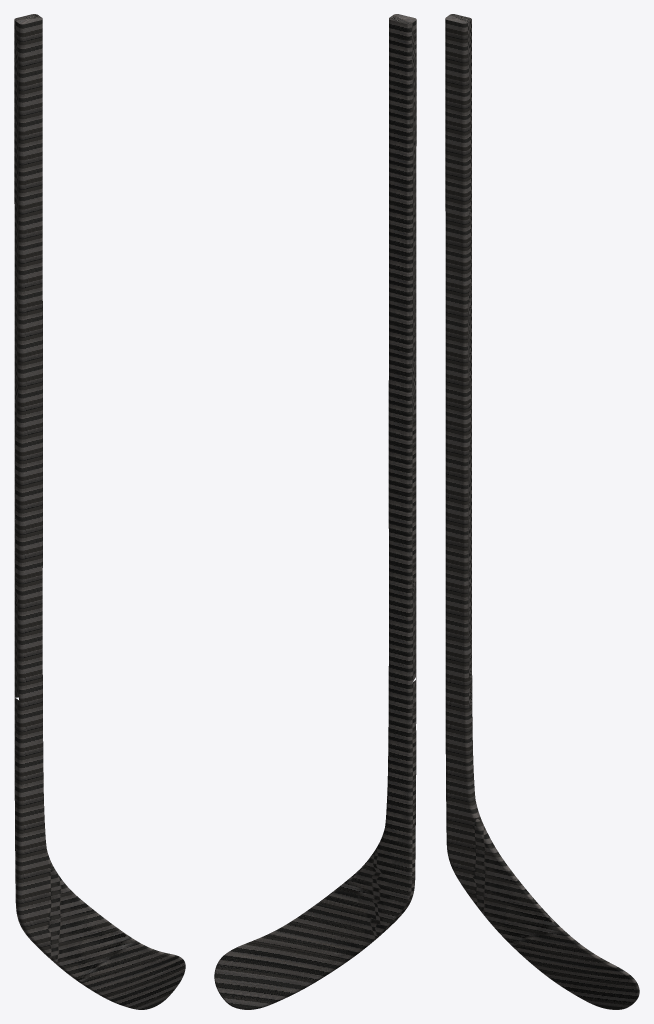
3 views of the same model, side by side, from view 1: azimuth 30°, elevation 25°; view 2: azimuth 150°, elevation 25°; view 3: azimuth 330°, elevation 25° (orthographic). The views are drawn at different scales.
Visible parts, largest first — view 1: geometry_0; view 2: geometry_0; view 3: geometry_0.
Boxes of the visible parts, bbox=[...] form: geometry_0: bbox=[14, 14, 185, 1009]; geometry_0: bbox=[214, 14, 416, 1009]; geometry_0: bbox=[445, 14, 639, 1009].
Size of the model in its own units: 237 by 1262 by 58.02.
Materials: 1 (1 with a texture image).
